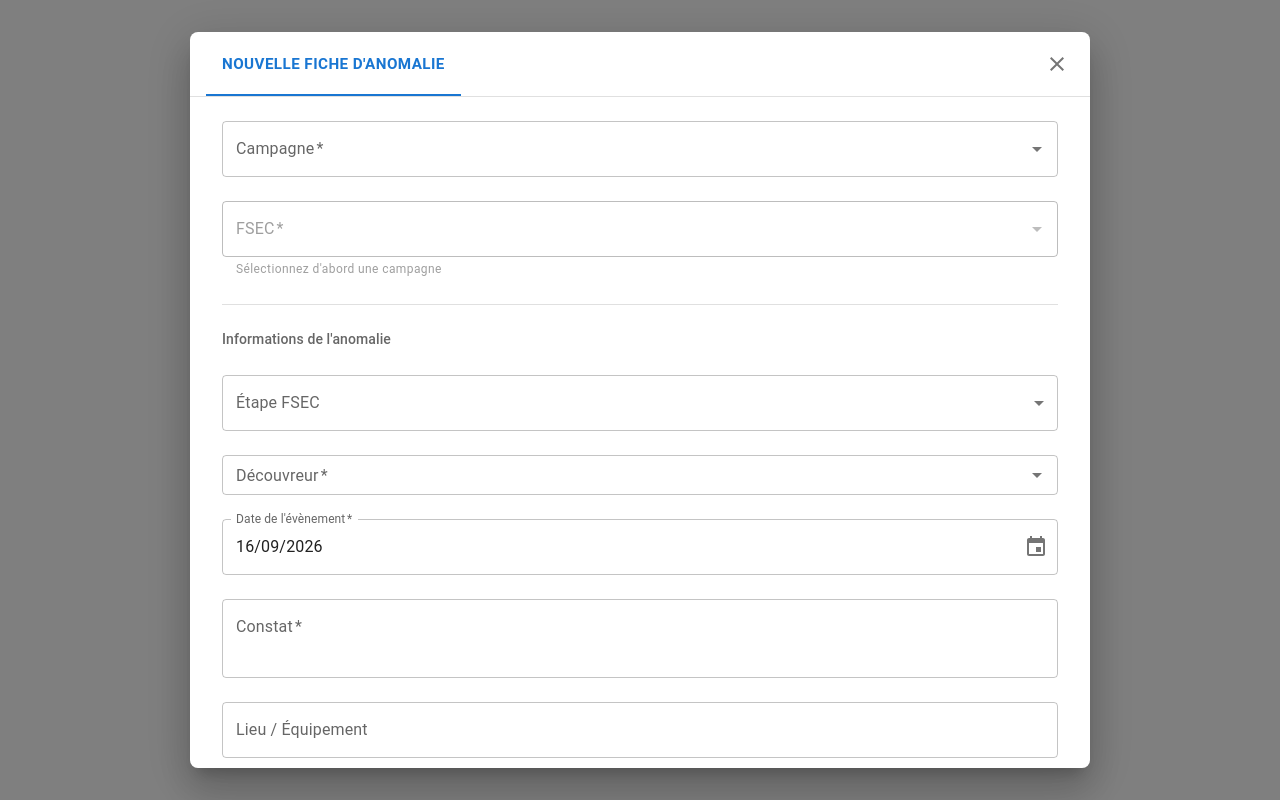
CreateFaModal › Cascading Selection › should list all FSECs of the campaign (multiple FA per FSEC allowed)
The width and height of the screenshot is (1280, 800).
Click the dropdown labelled "Campagne *": (625, 149) [231,130,1019,168]
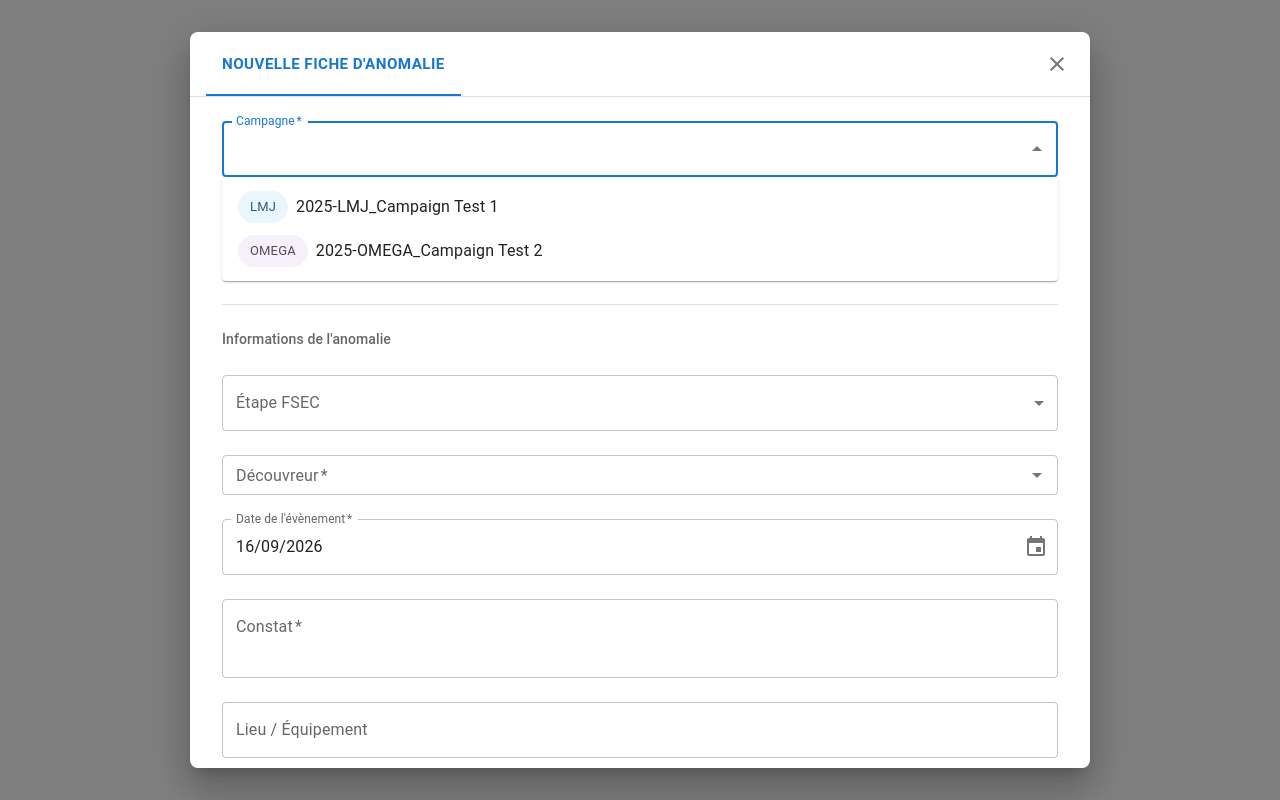
Click the text "2025-LMJ_Campaign Test 1": (397, 207) [296,195,498,219]
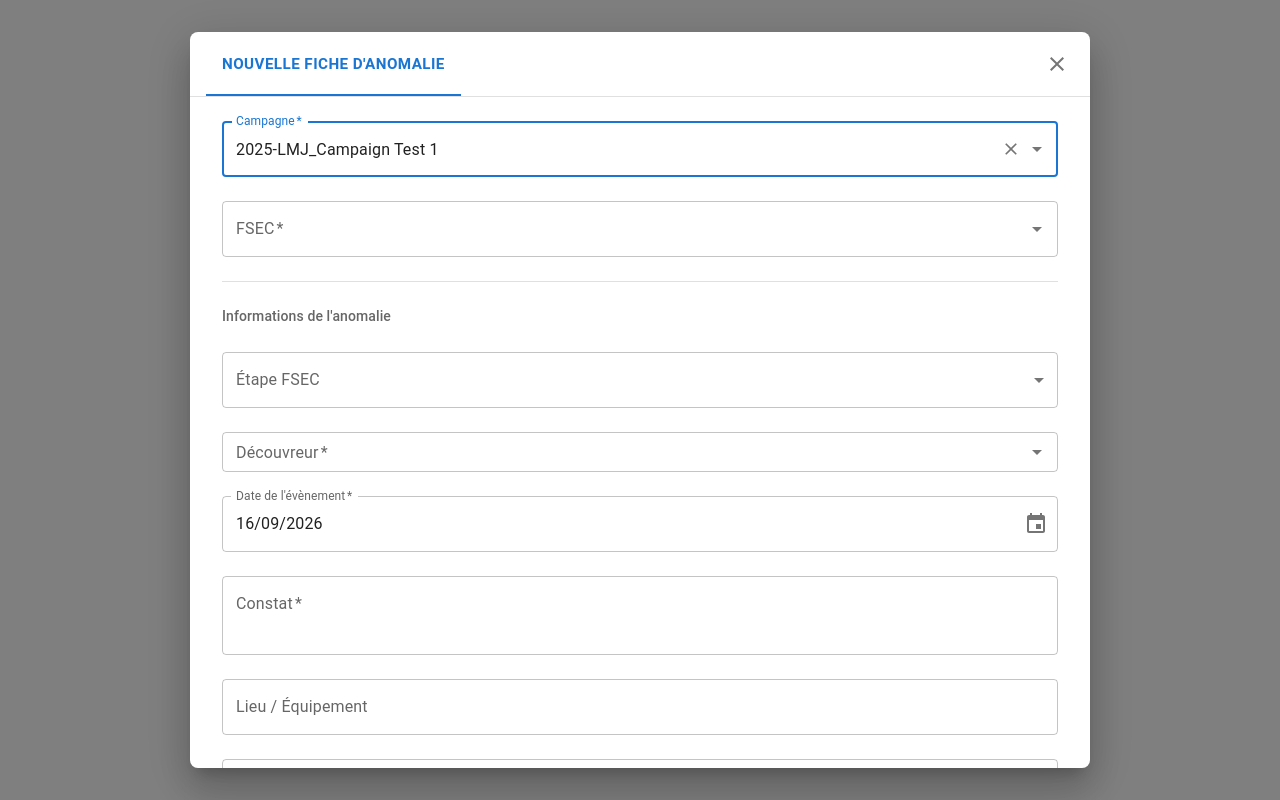
Check: the dropdown labelled "FSEC *" is enabled
Click the dropdown labelled "FSEC *": (625, 229) [231,210,1019,248]
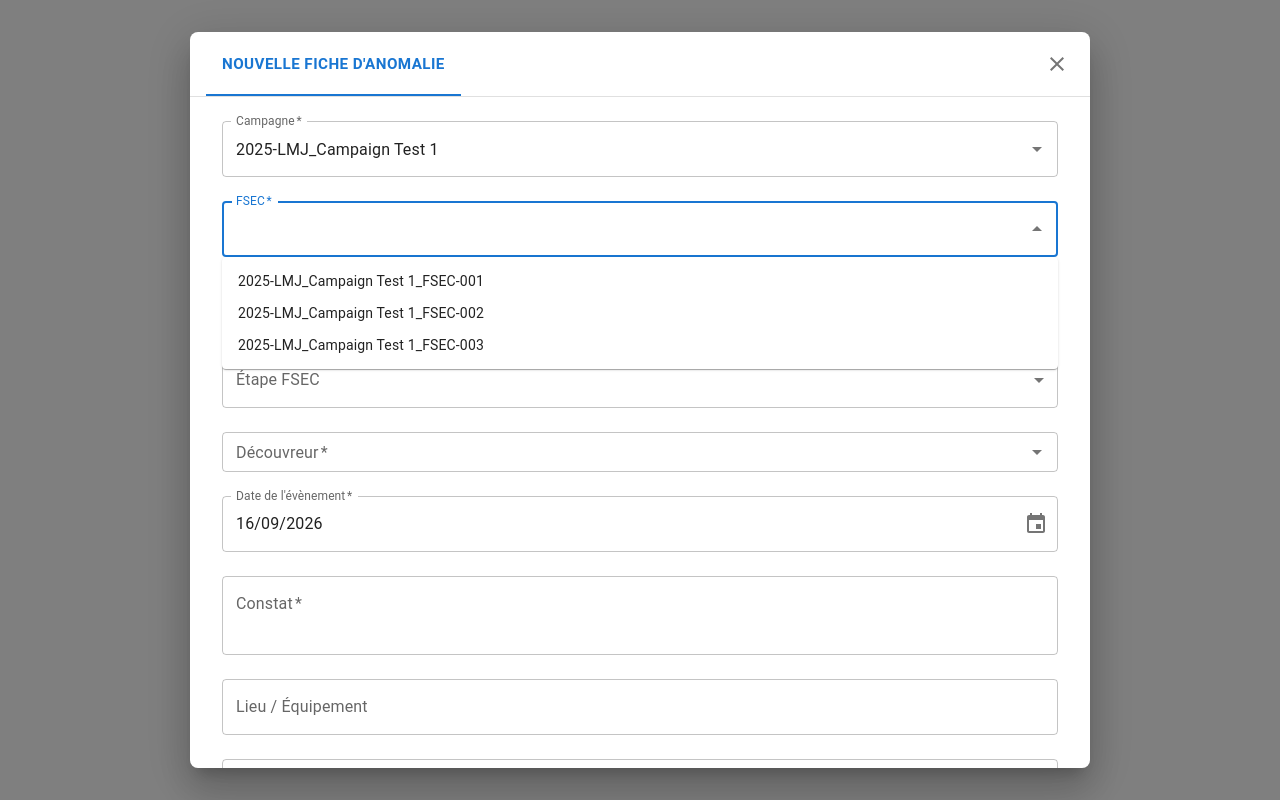
Check: the text "2025-LMJ_Campaign Test 1_FSEC-001" is shown, box [238,271,484,291]
Check: the text "2025-LMJ_Campaign Test 1_FSEC-002" is shown, box [238,303,484,323]
Check: the text "2025-LMJ_Campaign Test 1_FSEC-003" is shown, box [238,335,484,355]
